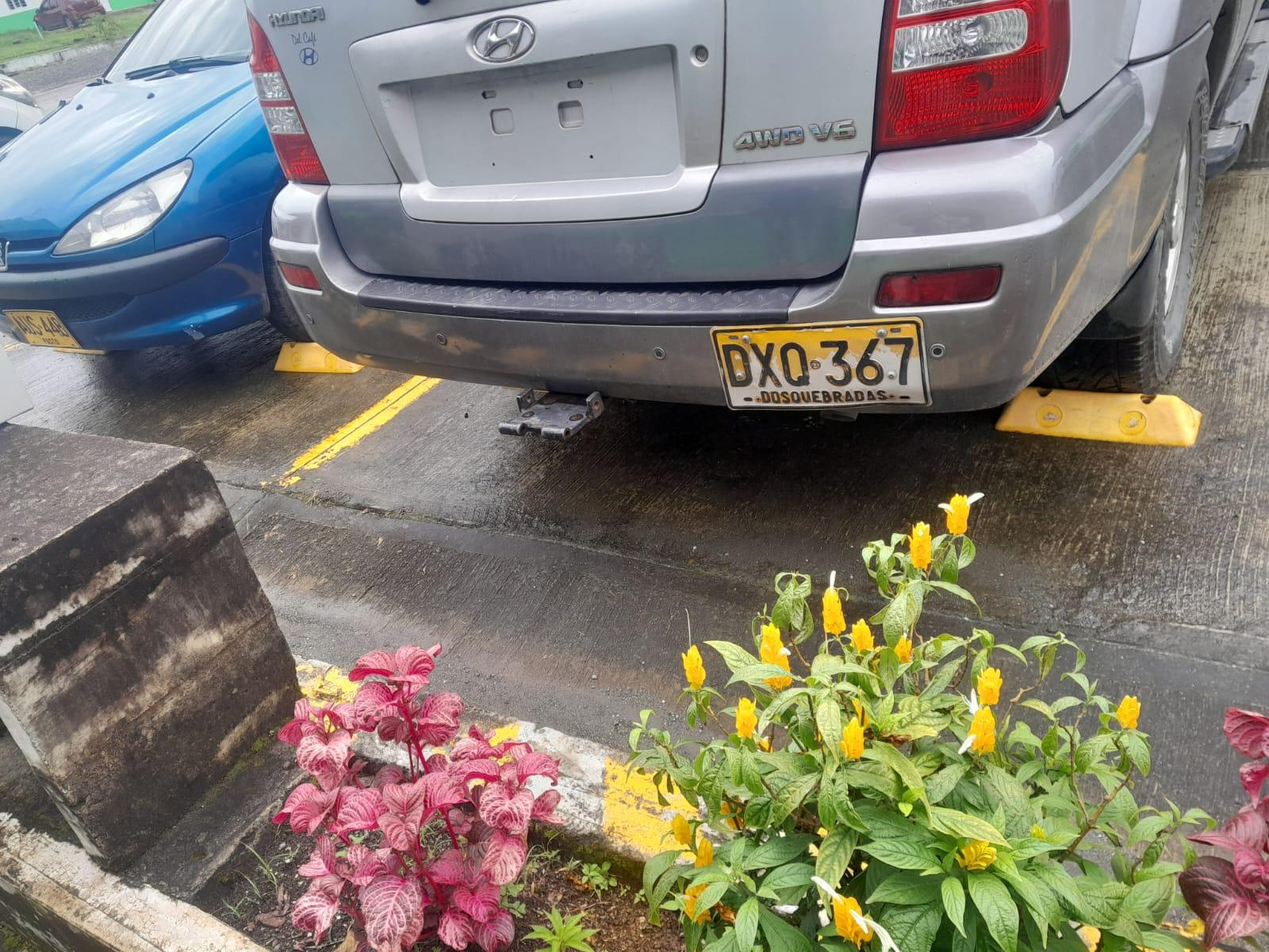placa: (711, 317, 929, 409)
